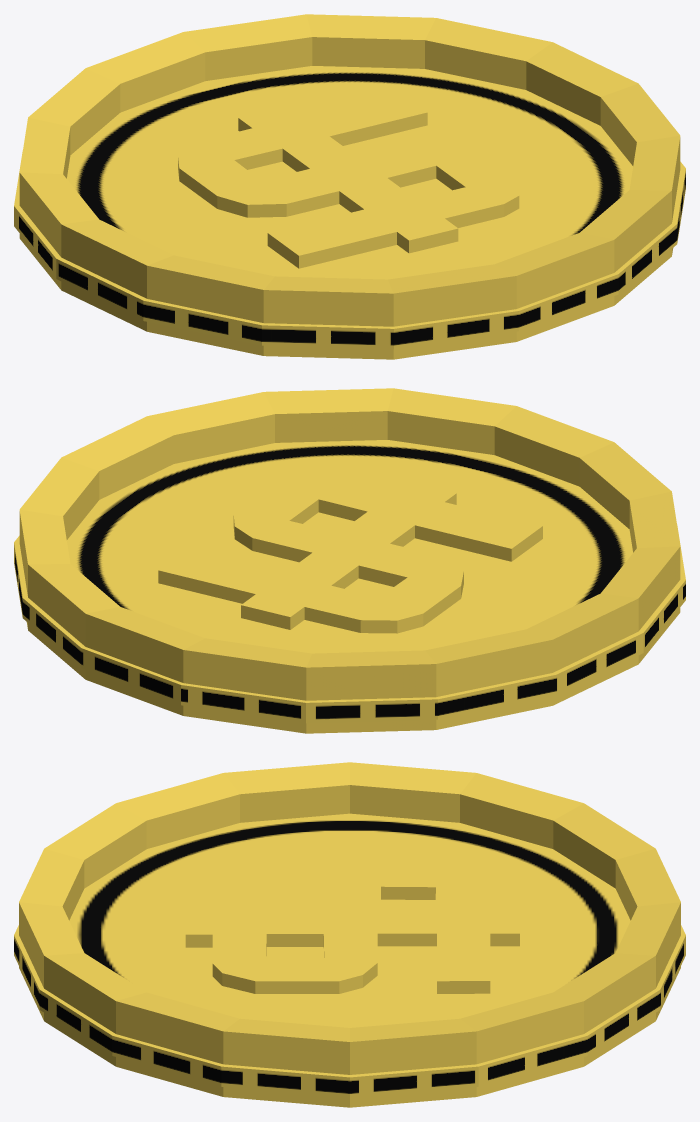
File: Coin$.glb
3 views of the same model, one above another, from view 1: azimuth 30°, elevation 25°; view 2: azimuth 150°, elevation 25°; view 3: azimuth 270°, elevation 25° (orthographic).
Visible parts, largest first — view 1: Cilindro; view 2: Cilindro; view 3: Cilindro.
Boxes of the visible parts, box(x1,y1,x2,y2) form: Cilindro: box(14, 14, 685, 359); Cilindro: box(14, 388, 685, 733); Cilindro: box(14, 762, 685, 1107).
Size of the model in its own units: 2.03 by 0.2188 by 2.03.
Materials: 1 (1 with a texture image).
